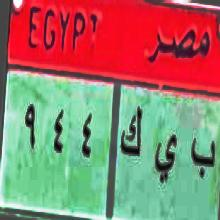4: (78, 105, 94, 166), (50, 105, 66, 161)
9: (24, 97, 40, 158)
baa: (190, 128, 216, 192)
kaaf: (118, 106, 144, 172)
yaa: (154, 127, 177, 190)
